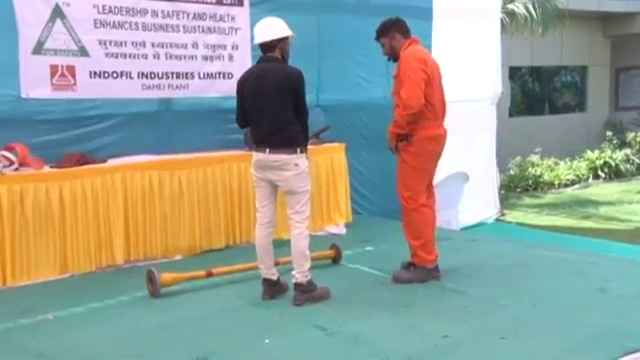helmet: (252, 15, 295, 46)
helmet_off: (372, 17, 416, 64)
helmet_on: (252, 15, 296, 62)
person: (234, 14, 331, 307), (370, 14, 446, 285)
